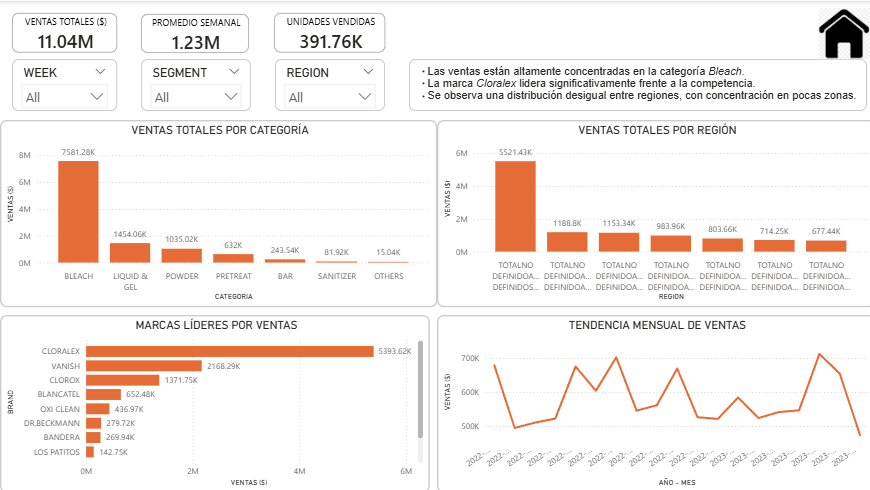

Layout of this report page (visuals, bound fields, positions):
{"tool":"powerbi","page":{"name":"Ventas","canvas":[1280,720],"ordinal":1},"visuals":[{"type":"cardVisual","title":"Ventas Totales","fields":{"Data":["Sum(FACT_SALES.TOTAL_VALUE_SALES)"]},"box":[0,0,189.2,93.8],"z":0},{"type":"cardVisual","title":"Unidades Vendidas","fields":{"Data":["Sum(FACT_SALES.TOTAL_UNIT_SALES)"]},"box":[383.1,0,198.5,93.8],"z":1000},{"type":"cardVisual","title":"Promedio Semanal","fields":{"Data":["Sum(FACT_SALES.TOTAL_UNIT_AVG_WEEKLY_SALES)"]},"box":[189.2,1.5,193.8,92.3],"z":2000},{"type":"clusteredColumnChart","title":"VENTAS TOTALES POR CATEGORÍA","fields":{"Y":["Sum(FACT_SALES.TOTAL_VALUE_SALES)"],"Category":["DIM_SEGMENT.SEGMENT"]},"box":[0,174.1,639.5,273.7],"z":3000},{"type":"lineChart","title":"TENDENCIA MENSUAL DE VENTAS","fields":{"Y":["Sum(FACT_SALES.TOTAL_VALUE_SALES)"],"Category":["DIM_CALENDAR.YearMonth"]},"box":[639.5,459.5,641,260.5],"z":4000},{"type":"clusteredColumnChart","title":"VENTAS TOTALES POR REGIÓN","fields":{"Category":["FACT_SALES.REGION"],"Y":["Sum(FACT_SALES.TOTAL_VALUE_SALES)"]},"box":[639.5,174.1,641,273.7],"z":5000},{"type":"slicer","fields":{"Values":["DIM_CALENDAR.WEEK"]},"box":[17.6,84.9,153.7,76.1],"z":6000},{"type":"slicer","fields":{"Values":["FACT_SALES.REGION"]},"box":[402.4,84.9,161,76.1],"z":7000},{"type":"slicer","fields":{"Values":["DIM_SEGMENT.SEGMENT"]},"box":[206.3,84.9,161,76.1],"z":8000},{"type":"clusteredBarChart","title":"MARCAS LÍDERES POR VENTAS","fields":{"Category":["DIM_PRODUCT.BRAND"],"Y":["Sum(FACT_SALES.TOTAL_VALUE_SALES)"]},"box":[0,459.5,629.3,260.5],"z":9000},{"type":"textbox","box":[598.5,84.9,670.2,76.1],"z":10000},{"type":"image","box":[1189.8,10.2,90.7,74.6],"z":11000}]}

Visuals, with their boxes in screenshot pixels (x1, y1, x2, y2), scaled from the page's 1280x720 canvas onto the 870x490 screenshot:
"Ventas Totales" cardVisual: Rect(0, 0, 129, 64)
"Unidades Vendidas" cardVisual: Rect(260, 0, 395, 64)
"Promedio Semanal" cardVisual: Rect(129, 1, 260, 64)
"VENTAS TOTALES POR CATEGORÍA" clusteredColumnChart: Rect(0, 118, 435, 305)
"TENDENCIA MENSUAL DE VENTAS" lineChart: Rect(435, 313, 869, 489)
"VENTAS TOTALES POR REGIÓN" clusteredColumnChart: Rect(435, 118, 869, 305)
slicer - DIM_CALENDAR.WEEK: Rect(12, 58, 116, 110)
slicer - FACT_SALES.REGION: Rect(274, 58, 383, 110)
slicer - DIM_SEGMENT.SEGMENT: Rect(140, 58, 250, 110)
"MARCAS LÍDERES POR VENTAS" clusteredBarChart: Rect(0, 313, 428, 489)
textbox: Rect(407, 58, 862, 110)
image: Rect(809, 7, 869, 58)
